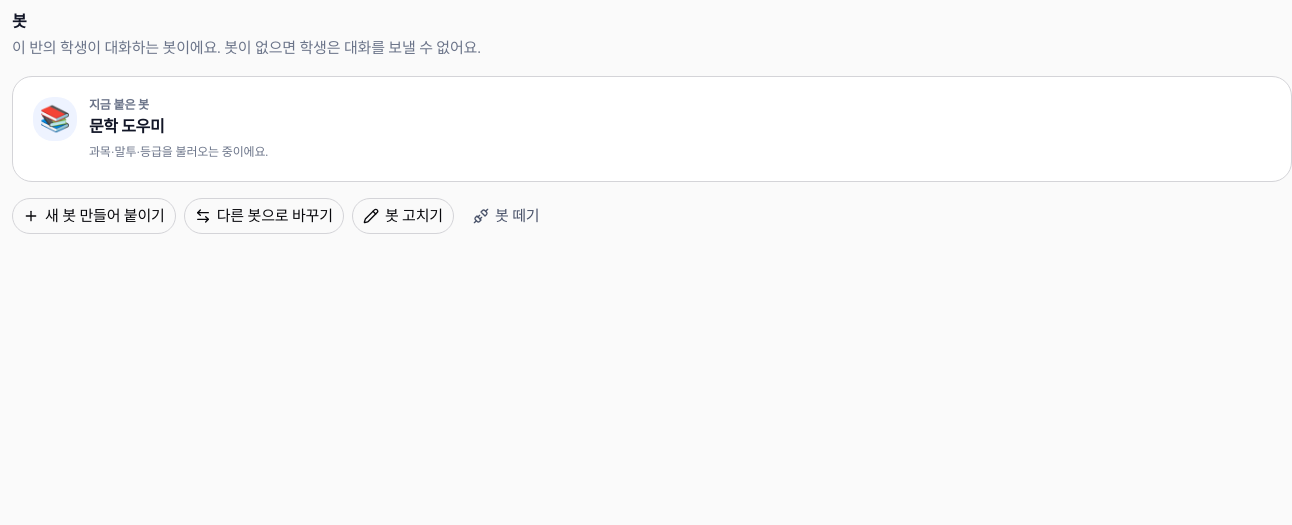
Test: 다른 봇으로 바꾸기 — GET /me/bots 에서 고른다 › 지금 붙은 봇은 고를 수 없다 — 나머지만 선다
Click the button with test id "class-bot-swap-toggle". click: [264, 216]
box: [184,198,344,234]
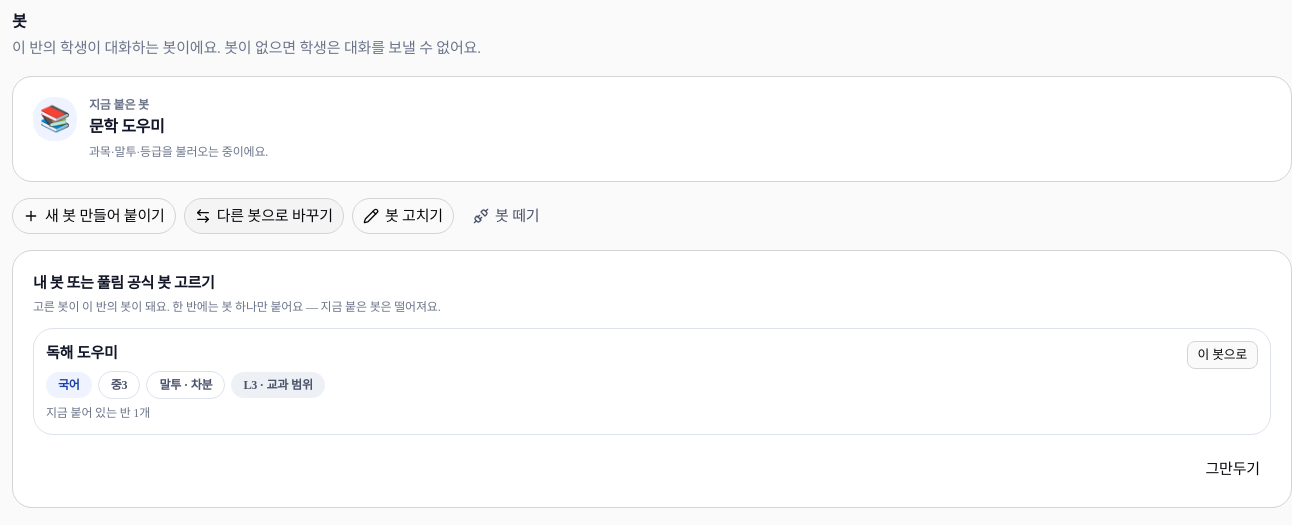
expect the list item with test id "class-bot-swap-bot_2" is shown: met, box [33,328,1271,435]
